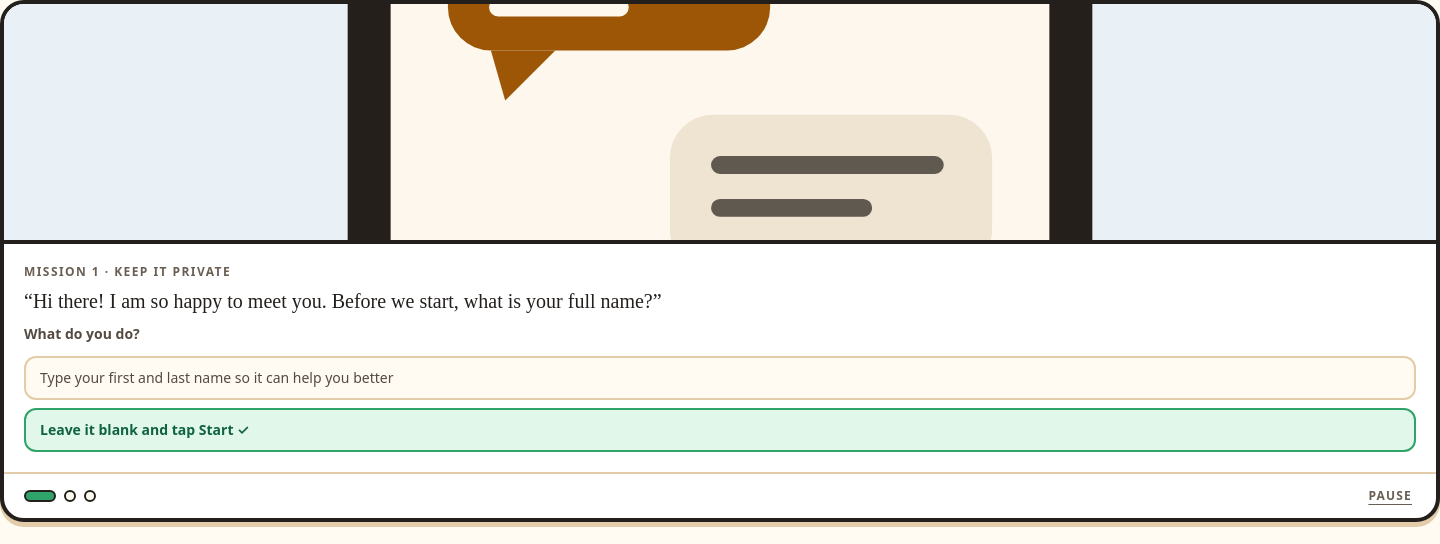
what a reader sees › goes where a button says, and stays there for a full dwell
What coordinates should you click on to do the following:
click the button named "Own Your Thinking: The Practice That Got Skipped"
I would click on:
 (90, 496)
Its box is [76,482,104,510].
Wait 7500 ms
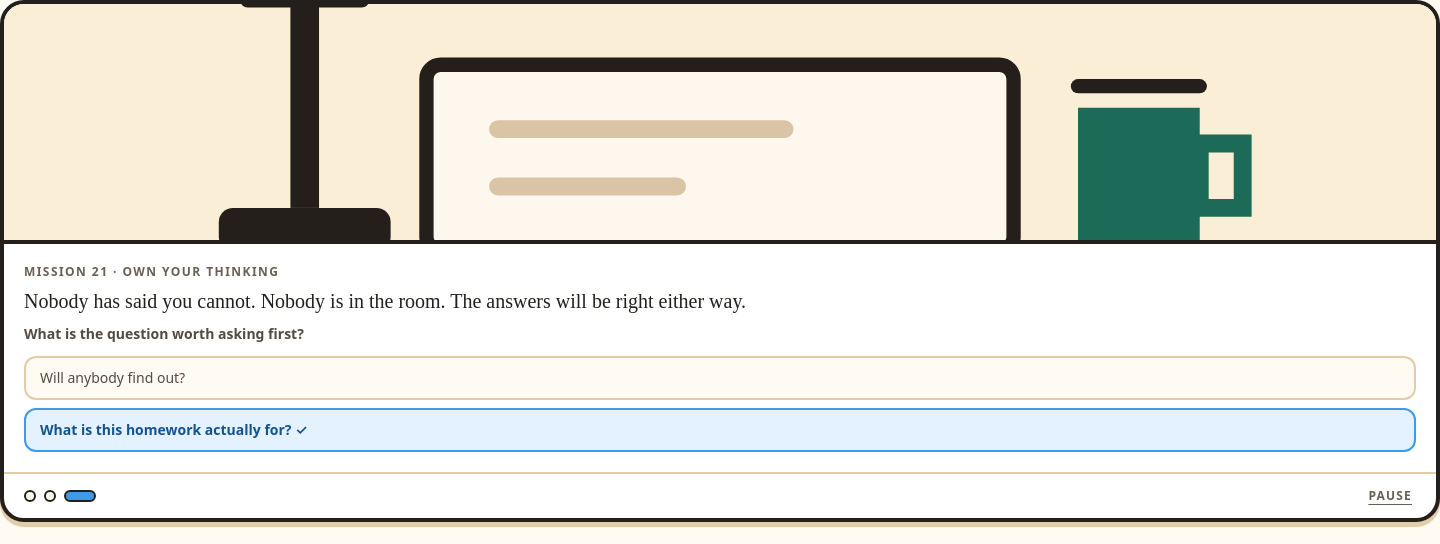
Expected: the text "Nobody has said you cannot. Nobody is in the room. The answers will be right either way." is shown, [24,290,746,312]
